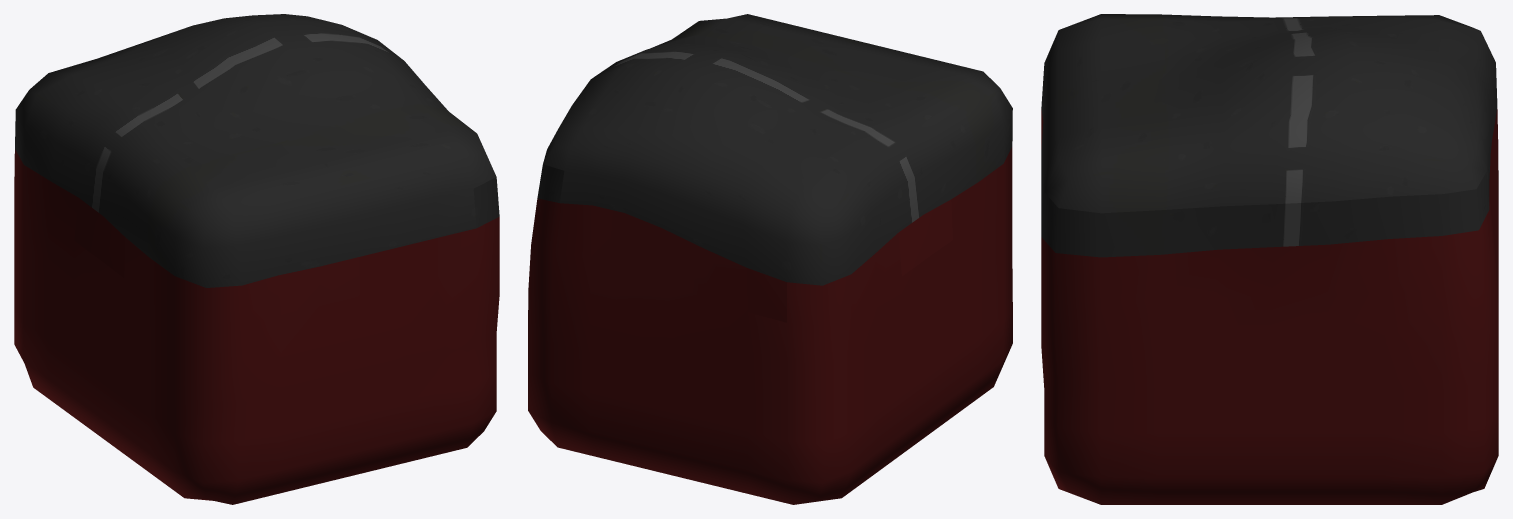
Rendered from RuinedGround_Block_05.fbx.
The picture shows the model from 3 angles, left to right: view 1: azimuth 30°, elevation 25°; view 2: azimuth 150°, elevation 25°; view 3: azimuth 270°, elevation 25°; orthographic projection. The views are drawn at different scales.
Parts seen in each view (by area): view 1: Box017; view 2: Box017; view 3: Box017.
Part boxes in pixels (left/top/right/bottom): Box017: left=14, top=14, right=499, bottom=504; Box017: left=528, top=14, right=1012, bottom=504; Box017: left=1041, top=14, right=1498, bottom=504.
Size of the model in its own units: 20.2 by 21.75 by 22.37.
